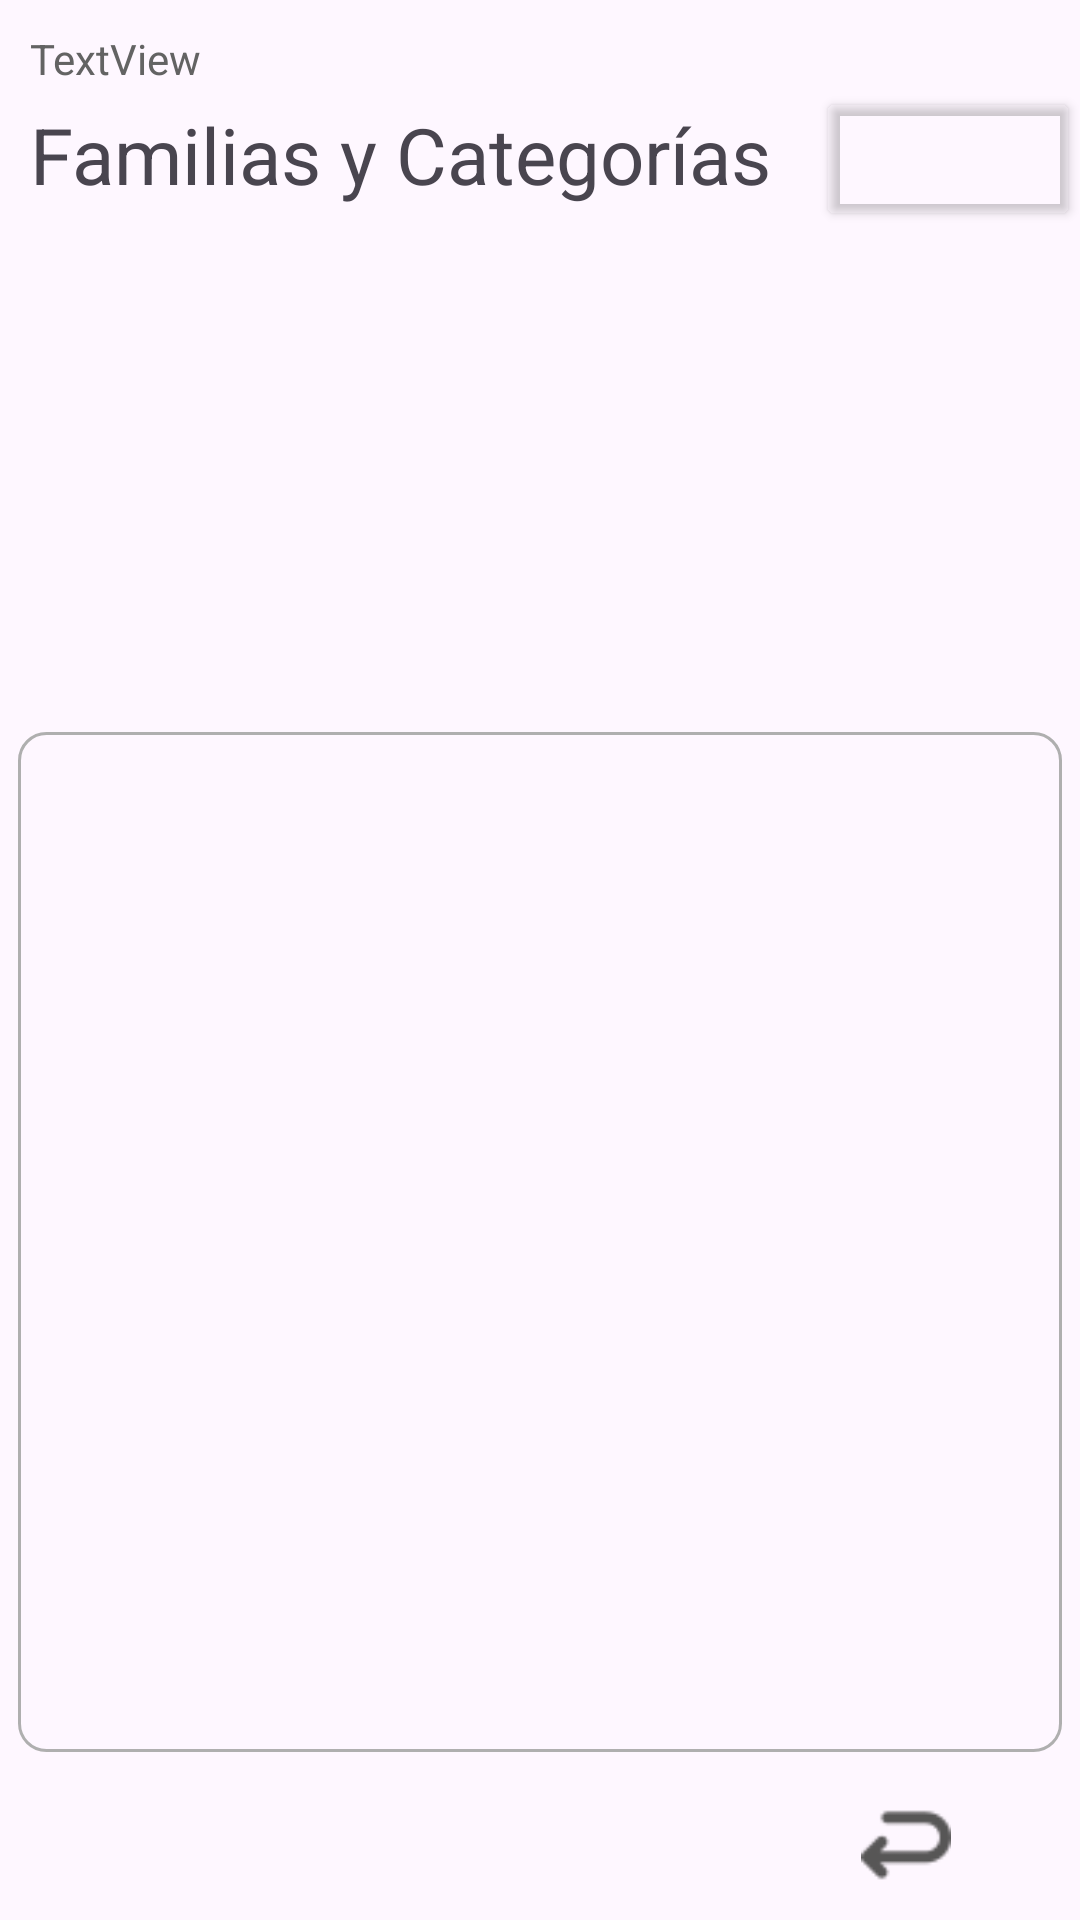

Screen size 1080*1920. Icon name, then its box in pixels as (left=x1, top=y1, right=x2, bottom=y2):
volver: (left=861, top=1810, right=951, bottom=1879)
